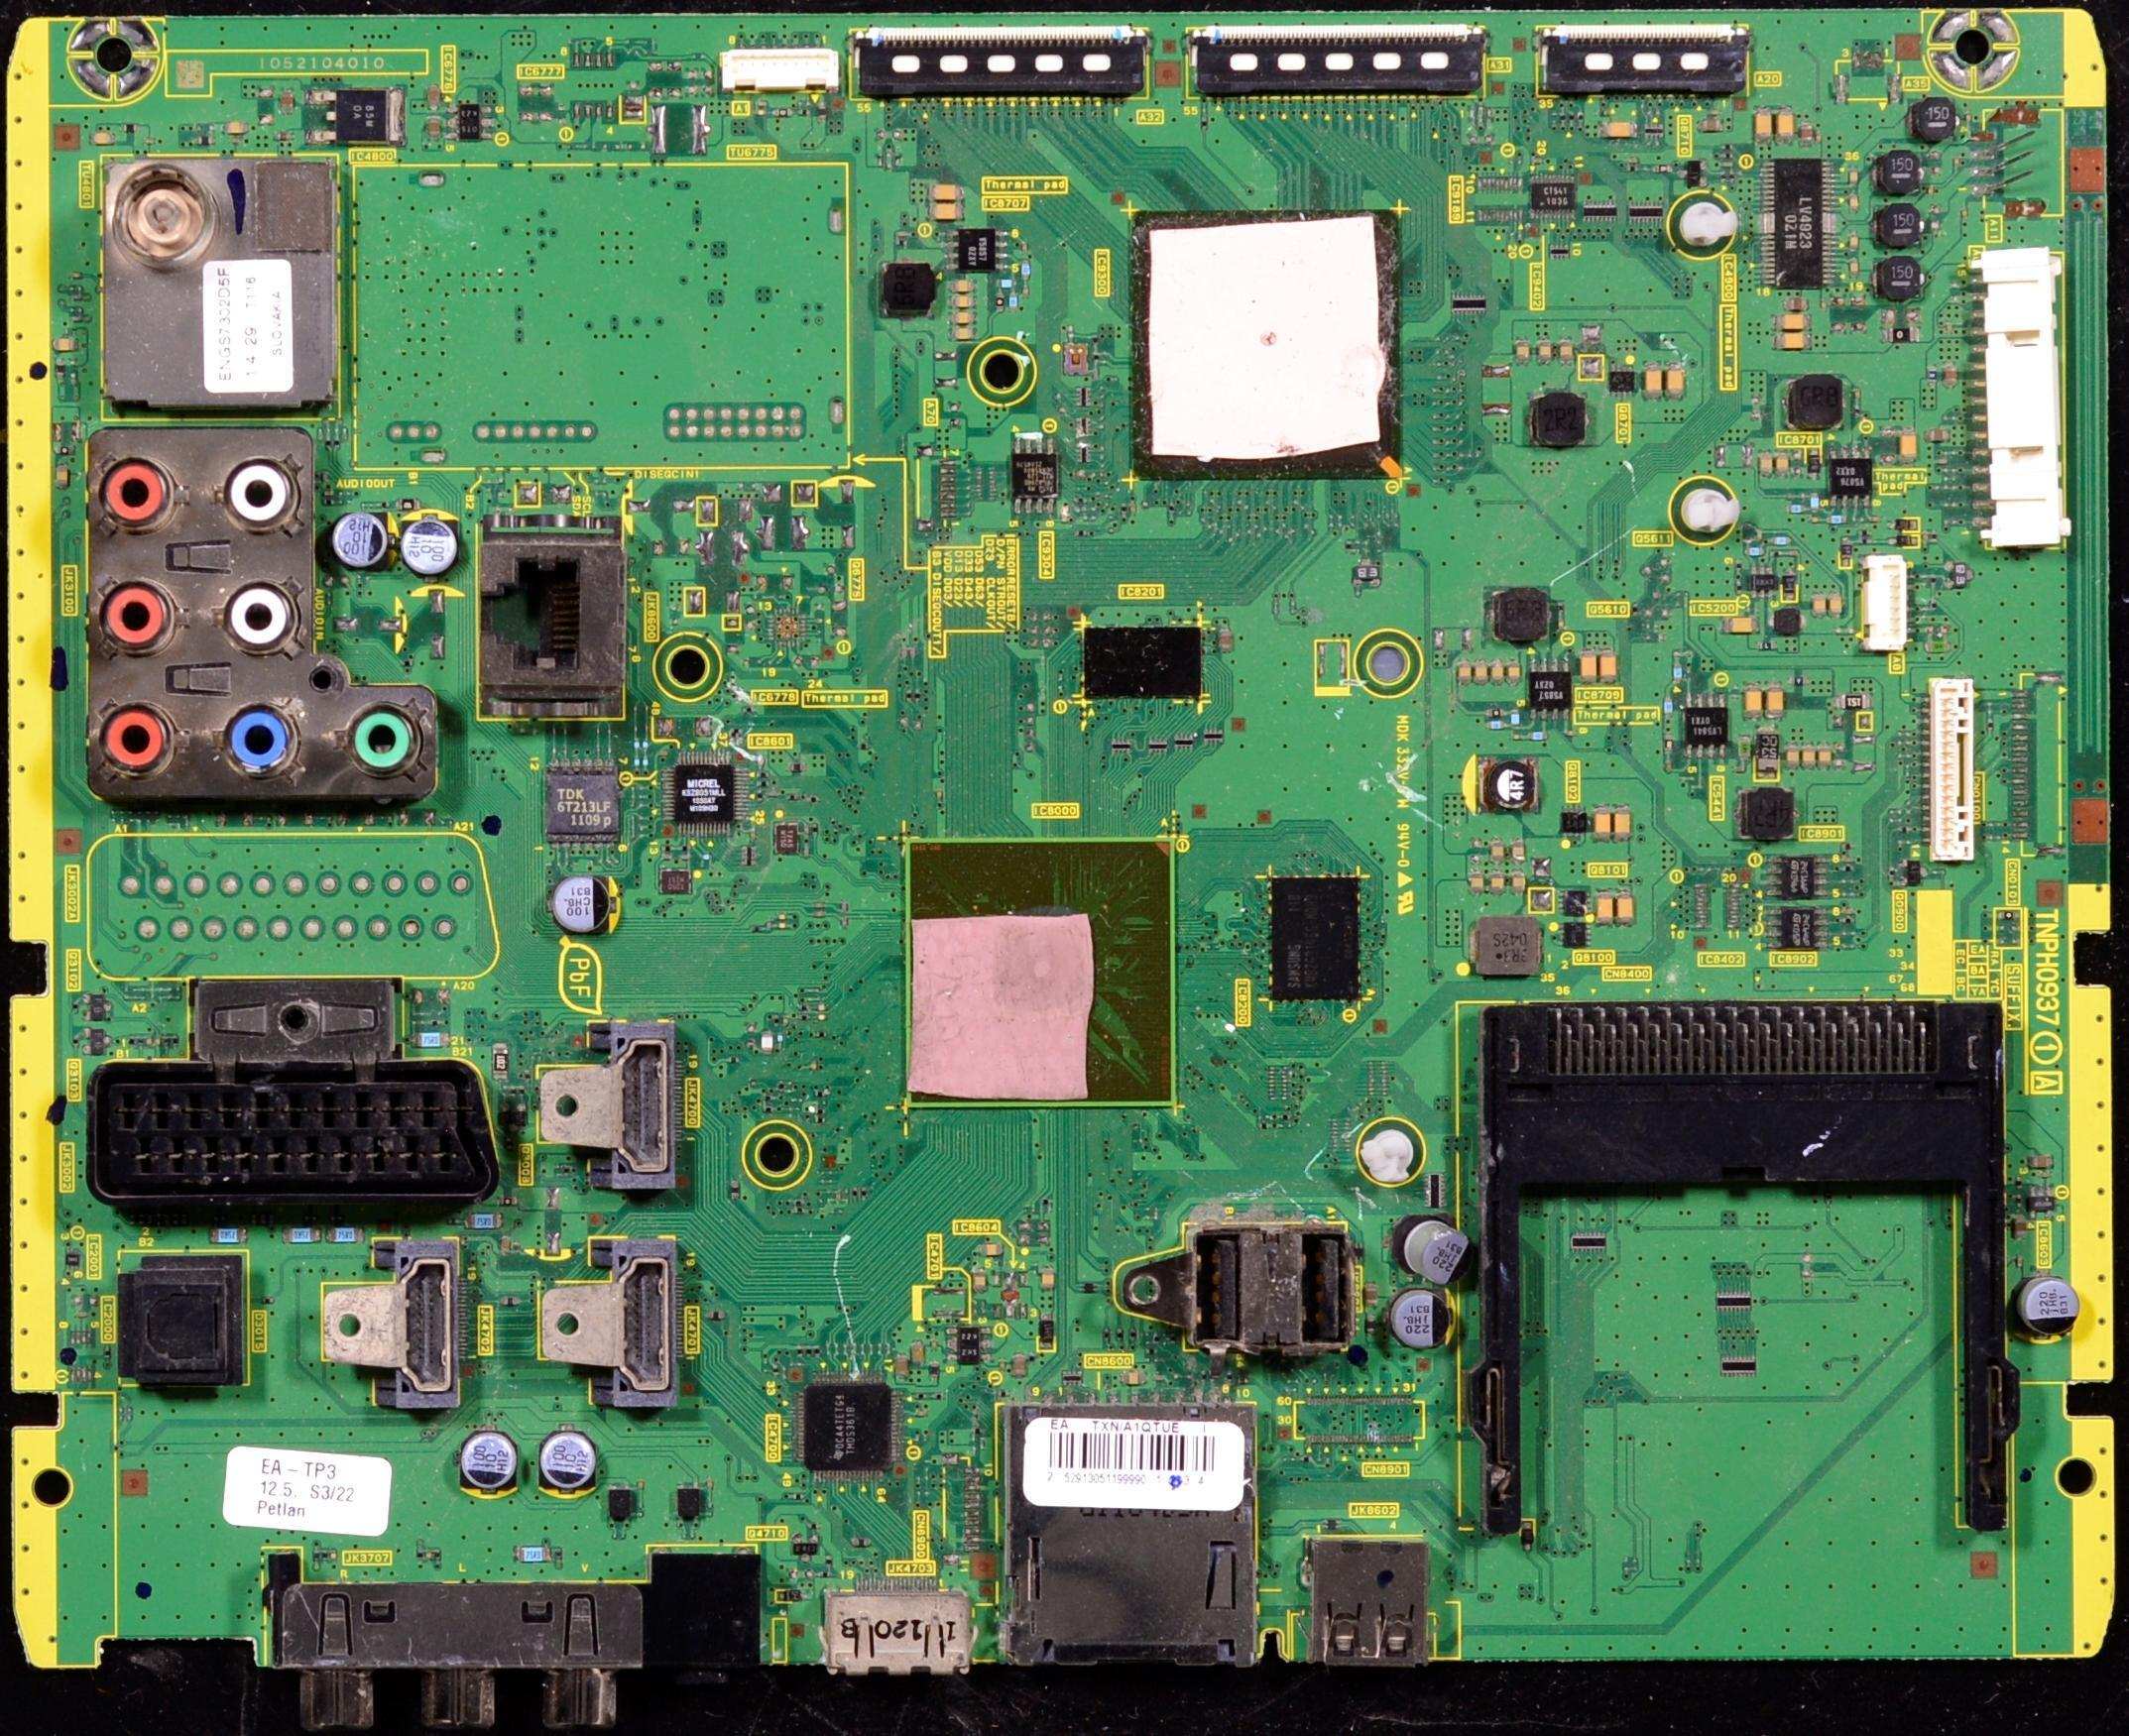Capacitor: (1405, 1217, 1479, 1290), (2017, 1276, 2080, 1340), (1391, 1294, 1455, 1351), (460, 1431, 518, 1490), (538, 1432, 595, 1496), (553, 876, 610, 937), (400, 517, 455, 577), (332, 513, 385, 573), (1600, 118, 1638, 144), (1773, 328, 1812, 352), (1578, 647, 1600, 685), (1724, 614, 1760, 637), (1752, 108, 1777, 142), (1897, 430, 1922, 463), (1773, 311, 1812, 332), (929, 199, 964, 223), (1644, 363, 1666, 399), (1612, 807, 1633, 841), (1740, 685, 1763, 717), (1764, 686, 1787, 716), (929, 182, 963, 201), (1597, 888, 1615, 922), (1776, 109, 1797, 141), (1596, 806, 1613, 844), (1615, 889, 1636, 923), (1600, 648, 1618, 684), (1665, 364, 1685, 397), (1511, 337, 1533, 364), (1488, 839, 1510, 865), (1786, 745, 1805, 772), (1455, 655, 1473, 686), (1471, 656, 1489, 685), (1827, 592, 1845, 619), (1799, 745, 1819, 771), (1816, 745, 1833, 772), (1035, 1267, 1055, 1291), (1123, 1369, 1145, 1389), (1758, 449, 1774, 479), (1812, 594, 1830, 621), (908, 1338, 924, 1367), (1490, 656, 1507, 684), (1485, 873, 1507, 894), (952, 277, 974, 295), (952, 291, 974, 311), (1536, 338, 1556, 361), (971, 1269, 988, 1294), (1557, 338, 1574, 362), (1508, 839, 1526, 863), (1507, 657, 1522, 684), (954, 323, 976, 341), (1009, 1352, 1026, 1377), (895, 1352, 910, 1377), (1774, 451, 1789, 476), (980, 1242, 1005, 1257), (1471, 869, 1485, 894), (953, 311, 977, 325), (1510, 868, 1525, 890)
IC: (903, 834, 1182, 1108), (1127, 209, 1400, 479), (1002, 1399, 1258, 1668), (1961, 250, 2063, 551), (791, 1373, 904, 1486), (1268, 874, 1364, 1003), (1919, 677, 1976, 863), (1756, 158, 1833, 289), (1081, 625, 1200, 705), (660, 753, 753, 836), (1010, 437, 1058, 514), (1680, 691, 1733, 759), (1525, 653, 1574, 724), (1761, 903, 1832, 952), (1826, 447, 1873, 510), (942, 228, 1008, 273), (1764, 858, 1833, 899), (1529, 174, 1580, 215), (1748, 565, 1778, 601), (1833, 693, 1868, 708)
Resistor: (309, 88, 403, 144), (945, 1325, 994, 1365), (447, 101, 494, 141), (1833, 693, 1870, 709), (1839, 539, 1854, 568)
